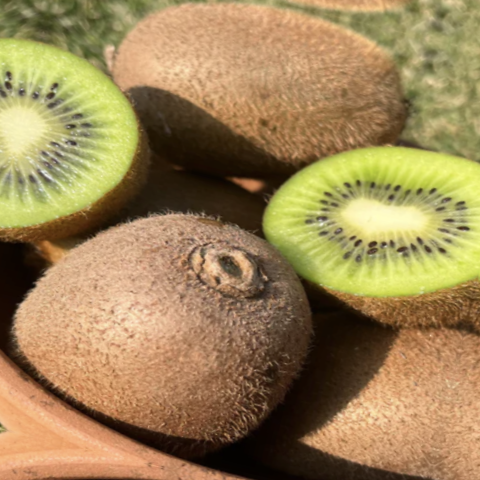kiwi: (0, 137, 360, 480), (61, 0, 434, 224)
